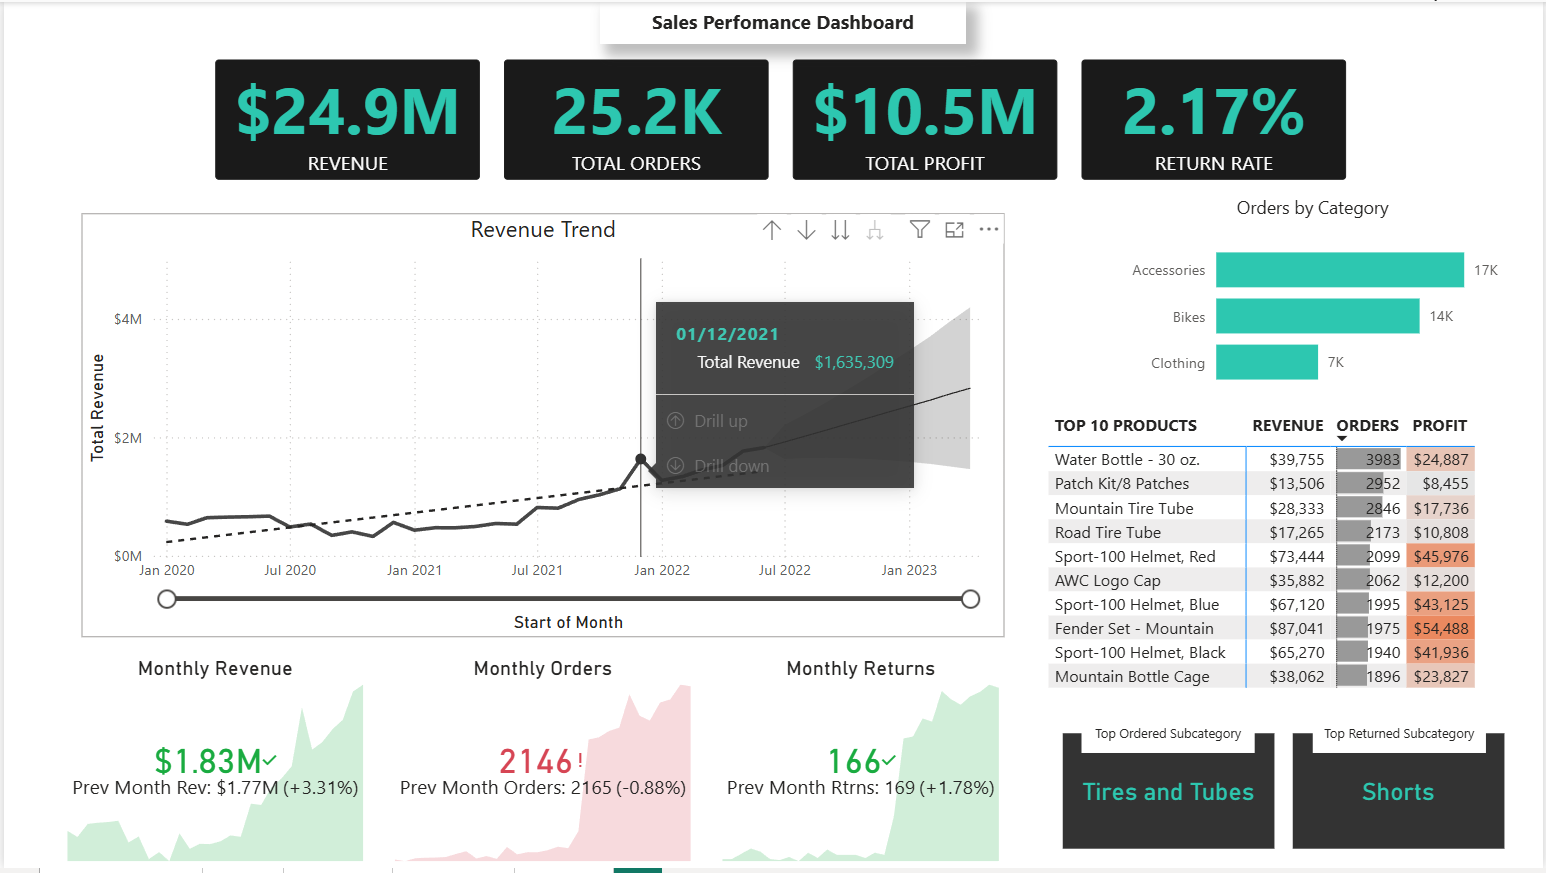

The dashboard page shown, as its layout file describes it:
{"tool":"powerbi","page":{"name":"Main Dashboard","canvas":[1280,720],"ordinal":0},"visuals":[{"type":"group","id":"g1","title":"KPI Cards","box":[176,48,944,96],"z":0},{"type":"card","fields":{"Values":["Table Measure.Total Revenue"]},"box":[176,48,220,100],"z":0,"group":"g1"},{"type":"card","fields":{"Values":["Table Measure.Total Orders"]},"box":[416,48,220,100],"z":1000,"group":"g1"},{"type":"lineChart","title":"Revenue Trend","fields":{"Y":["Table Measure.Total Revenue"],"Category":["Calendar Lookup.Start of Year","Calendar Lookup.Start of Quarter","Calendar Lookup.Start of Month","Calendar Lookup.Start of Week"]},"box":[64,176,768,352],"z":1000},{"type":"card","fields":{"Values":["Table Measure.Total Profit"]},"box":[656,48,220,100],"z":2000,"group":"g1"},{"type":"kpi","title":"Monthly Revenue","fields":{"Indicator":["Table Measure.Total Revenue"],"TrendLine":["Calendar Lookup.Start of Month"],"Goal":["Table Measure.Previous Month Revenue"]},"box":[48,544,256,176],"z":2000},{"type":"card","fields":{"Values":["Table Measure.Return rate"]},"box":[896,48,220,100],"z":3000,"group":"g1"},{"type":"kpi","title":"Monthly Orders","fields":{"TrendLine":["Calendar Lookup.Start of Month"],"Indicator":["Table Measure.Total Orders"],"Goal":["Table Measure.Previous Month Orders"]},"box":[320,544,256,176],"z":3000},{"type":"kpi","title":"Monthly Returns","fields":{"TrendLine":["Calendar Lookup.Start of Month"],"Indicator":["Table Measure.Total Returns"],"Goal":["Table Measure.Previous Month Returns"]},"box":[592,544,240,176],"z":4000},{"type":"barChart","title":"Orders by Category","fields":{"Category":["Product Categories Lookup.CategoryName"],"Y":["Table Measure.Total Orders"]},"box":[928,160,320,176],"z":5000},{"type":"pivotTable","fields":{"Values":["Table Measure.Total Revenue","Table Measure.Total Orders","Table Measure.Total Profit"],"Rows":["Product Lookup.ProductName"]},"box":[864,336,400,256],"z":6000},{"type":"card","fields":{"Values":["Min(Product Subcategories Lookup.SubcategoryName)"]},"box":[880,608,176,96],"z":7000},{"type":"card","fields":{"Values":["Min(Product Subcategories Lookup.SubcategoryName)"]},"box":[1072,608,176,96],"z":8000},{"type":"textbox","box":[496,0,304,35],"z":9000},{"type":"textbox","box":[896,592,144,32],"z":10000},{"type":"textbox","box":[1088,592,144,32],"z":11000}]}

Visuals, with their boxes in screenshot pixels (x1, y1, x2, y2), scaled from the page's 1280x720 canvas onto the 1546x873 screenshot:
"KPI Cards" group: bbox=[213, 58, 1353, 175]
card - Table Measure.Total Revenue: bbox=[213, 58, 478, 179]
card - Table Measure.Total Orders: bbox=[502, 58, 768, 179]
"Revenue Trend" lineChart: bbox=[77, 213, 1005, 640]
card - Table Measure.Total Profit: bbox=[792, 58, 1058, 179]
"Monthly Revenue" kpi: bbox=[58, 660, 367, 872]
card - Table Measure.Return rate: bbox=[1082, 58, 1348, 179]
"Monthly Orders" kpi: bbox=[386, 660, 696, 872]
"Monthly Returns" kpi: bbox=[715, 660, 1005, 872]
"Orders by Category" barChart: bbox=[1121, 194, 1507, 407]
pivotTable - Table Measure.Total Revenue x Table Measure.Total Orders: bbox=[1044, 407, 1527, 718]
card - Min(Product Subcategories Lookup.SubcategoryName): bbox=[1063, 737, 1275, 854]
card - Min(Product Subcategories Lookup.SubcategoryName): bbox=[1295, 737, 1507, 854]
textbox: bbox=[599, 0, 966, 42]
textbox: bbox=[1082, 718, 1256, 757]
textbox: bbox=[1314, 718, 1488, 757]
